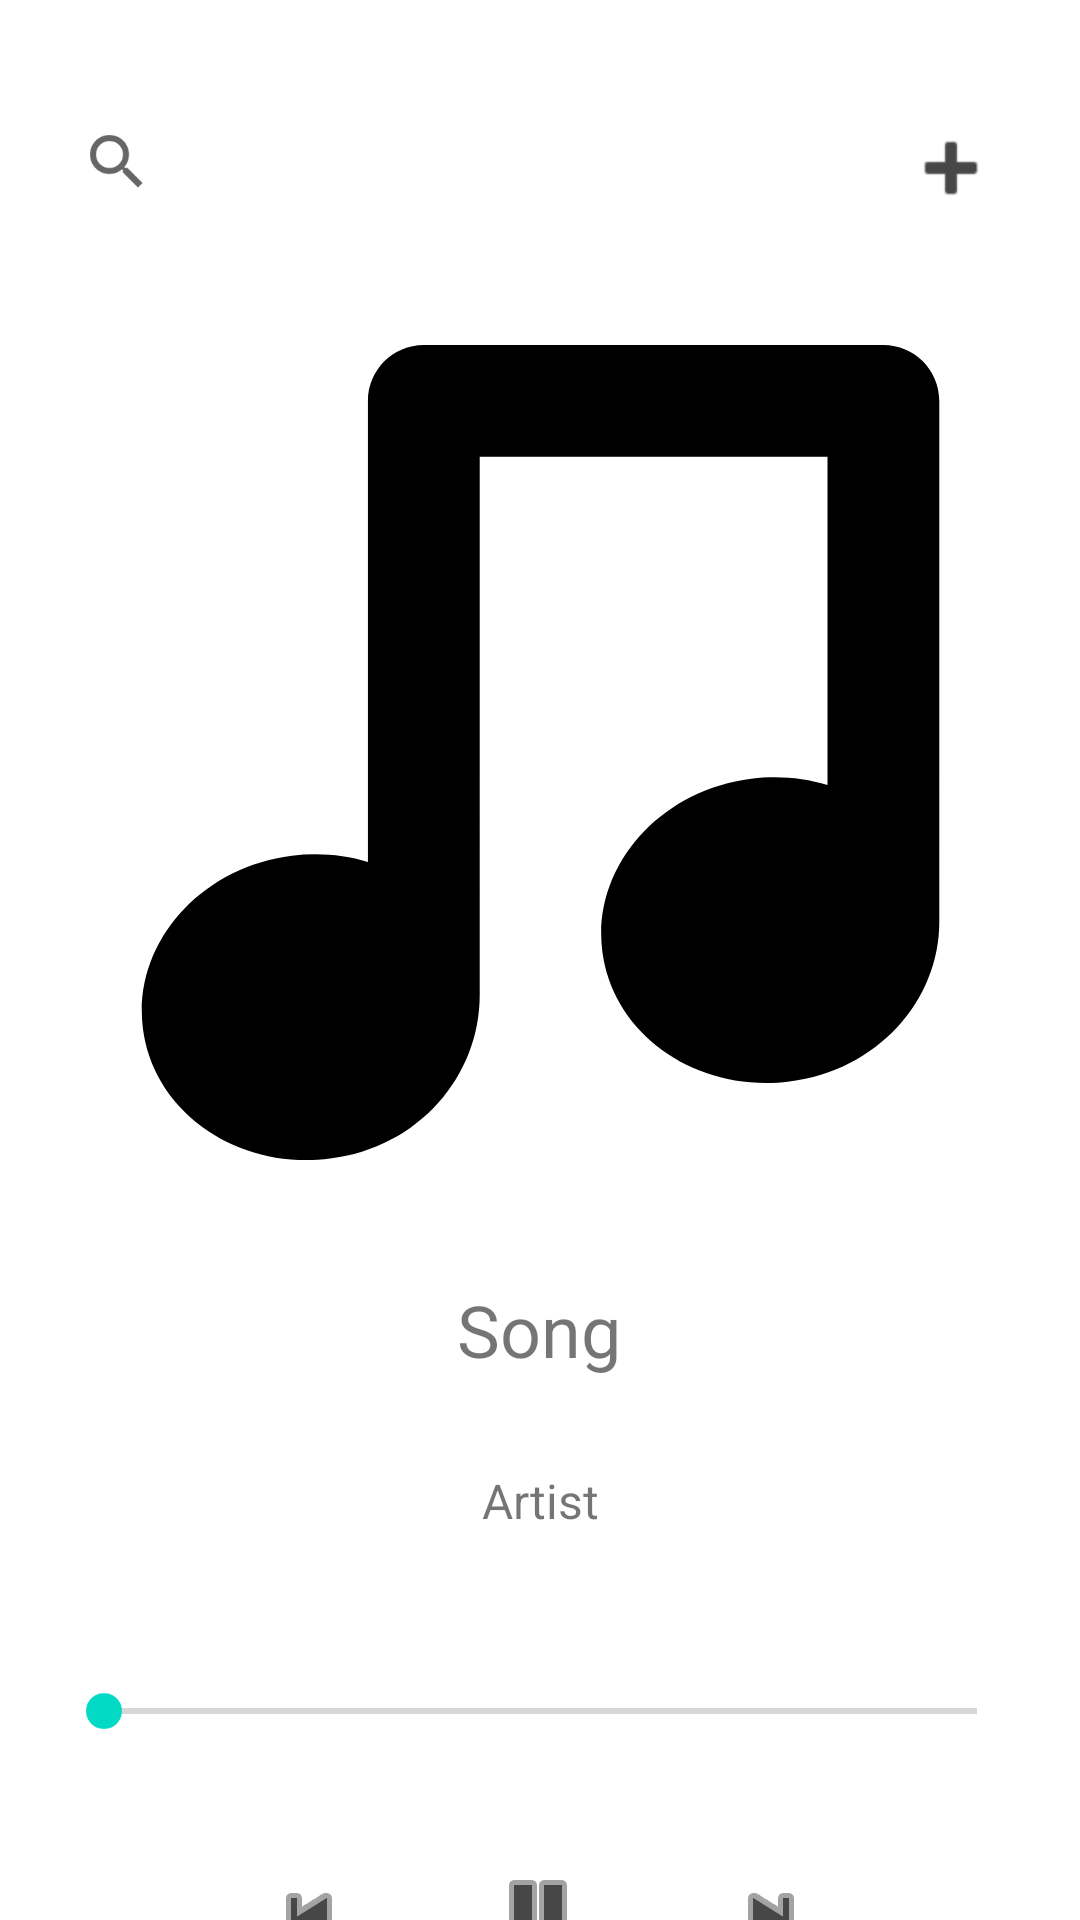

Screen size 1080×1920. Icon name, then its box in pixels as [x1,y1,x2,y2]:
Agregar: [924,141,978,195]
